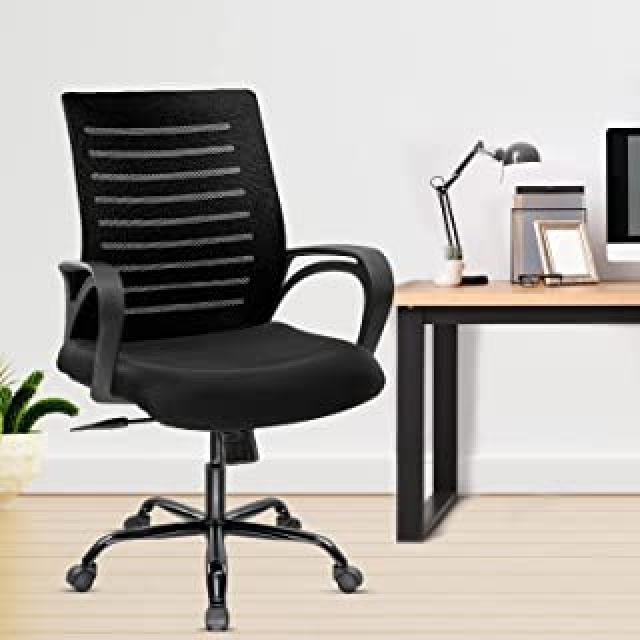chair: (9, 39, 416, 640)
light: (421, 125, 534, 278)
table: (385, 277, 640, 557)
